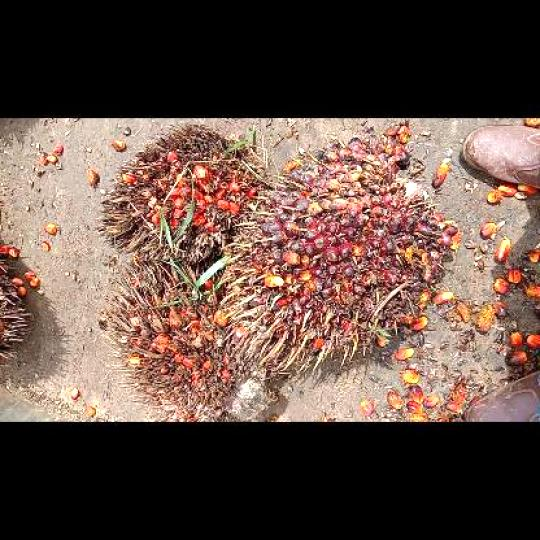masak: (220, 134, 458, 378)
terlalu masak: (97, 258, 282, 420), (96, 121, 267, 266)
